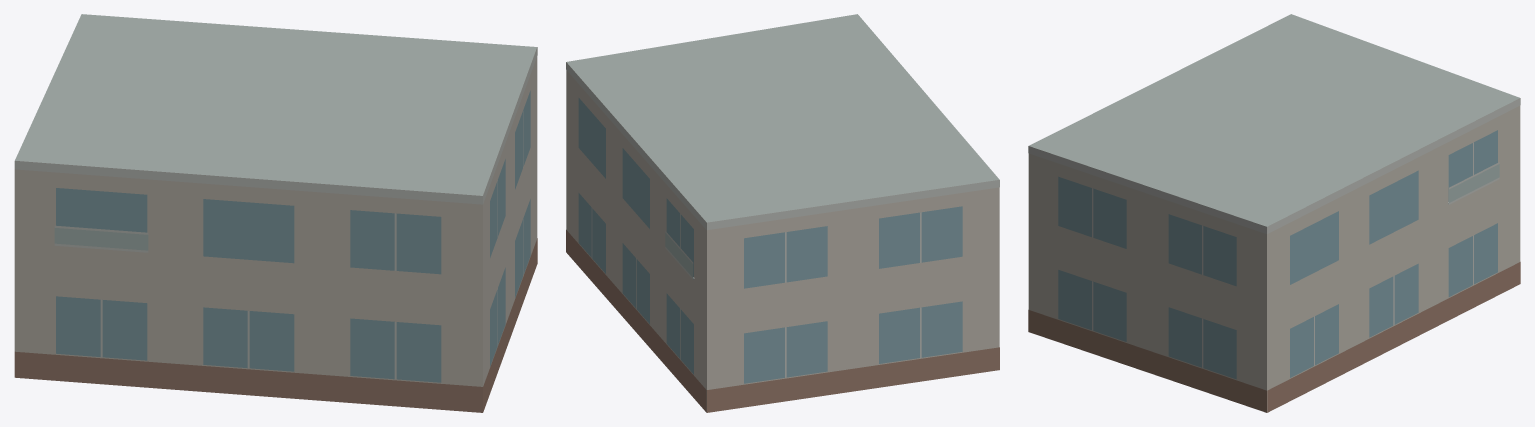
Rendered from survey-upis-32870309.glb.
3 renders of one model, left to right at view 1: azimuth 30°, elevation 25°; view 2: azimuth 150°, elevation 25°; view 3: azimuth 270°, elevation 25°, orthographic. The views are drawn at different scales.
Parts seen in each view (by area): view 1: survey-upis-32870309.tmp; view 2: survey-upis-32870309.tmp; view 3: survey-upis-32870309.tmp.
Part boxes in pixels (<box>): survey-upis-32870309.tmp: <box>14,14,537,412</box>; survey-upis-32870309.tmp: <box>566,14,999,412</box>; survey-upis-32870309.tmp: <box>1028,14,1520,412</box>.
Size of the model in its own units: 14.97 by 6.1 by 14.63.
